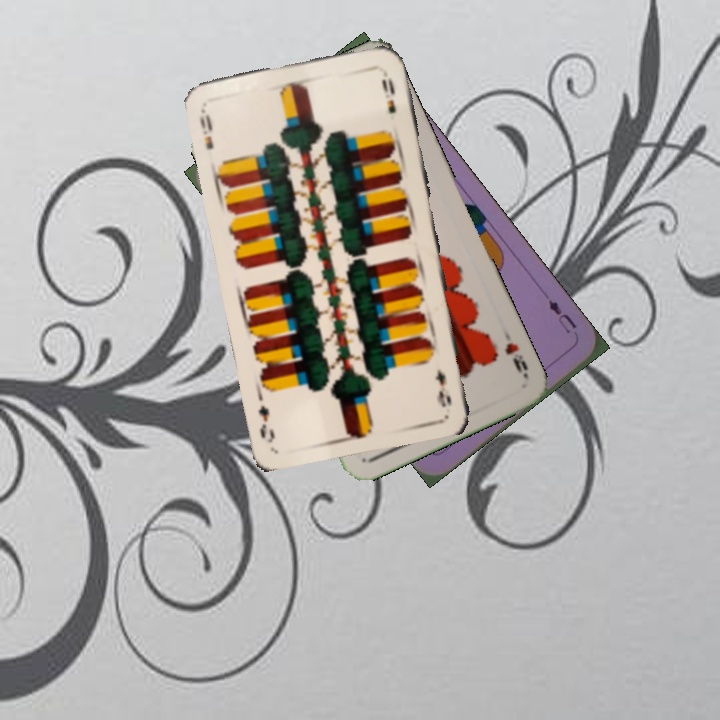E9: (195, 103, 216, 152), (432, 364, 454, 410)
EU: (544, 295, 580, 336)
H9: (498, 325, 531, 381)
